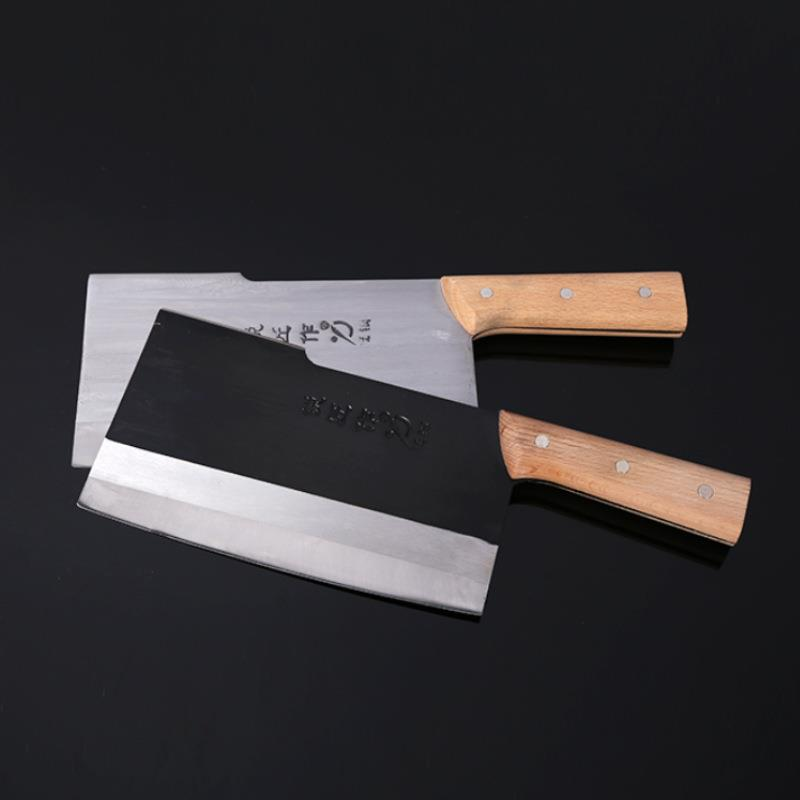knief: (115, 317, 766, 617)
